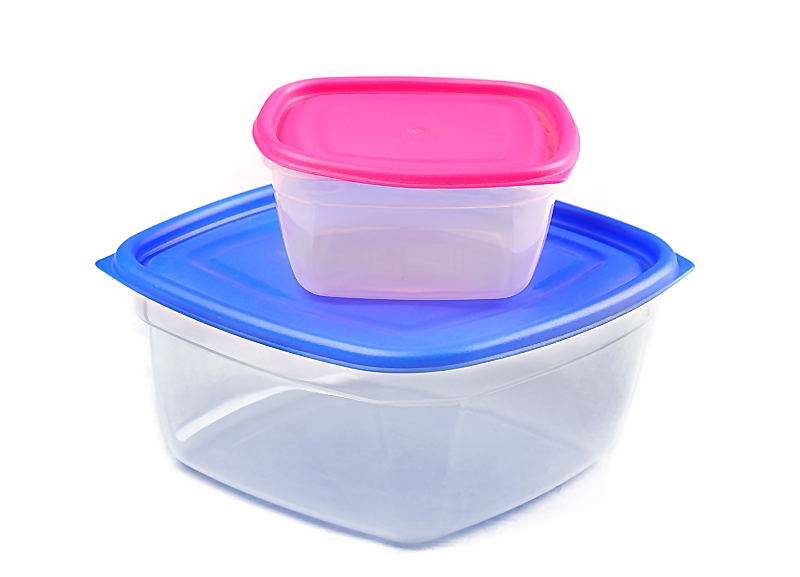Rec_Plastic: (107, 141, 702, 539), (236, 64, 590, 306)
